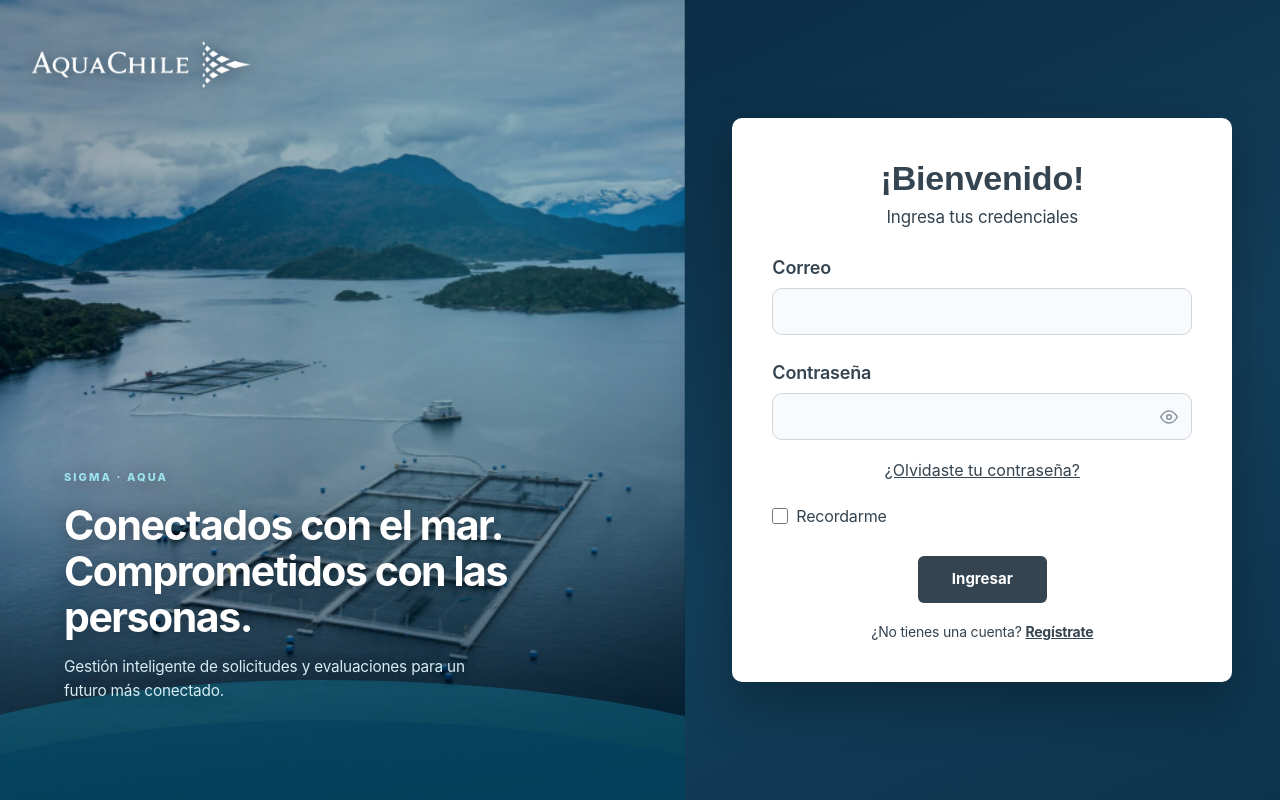
it: LoginPage › inicia sesión y navega a "/" con credenciales válidas
Type "ana@aqua.cl" into the field labelled "Correo" at (982, 312), box [772,288,1192,335]
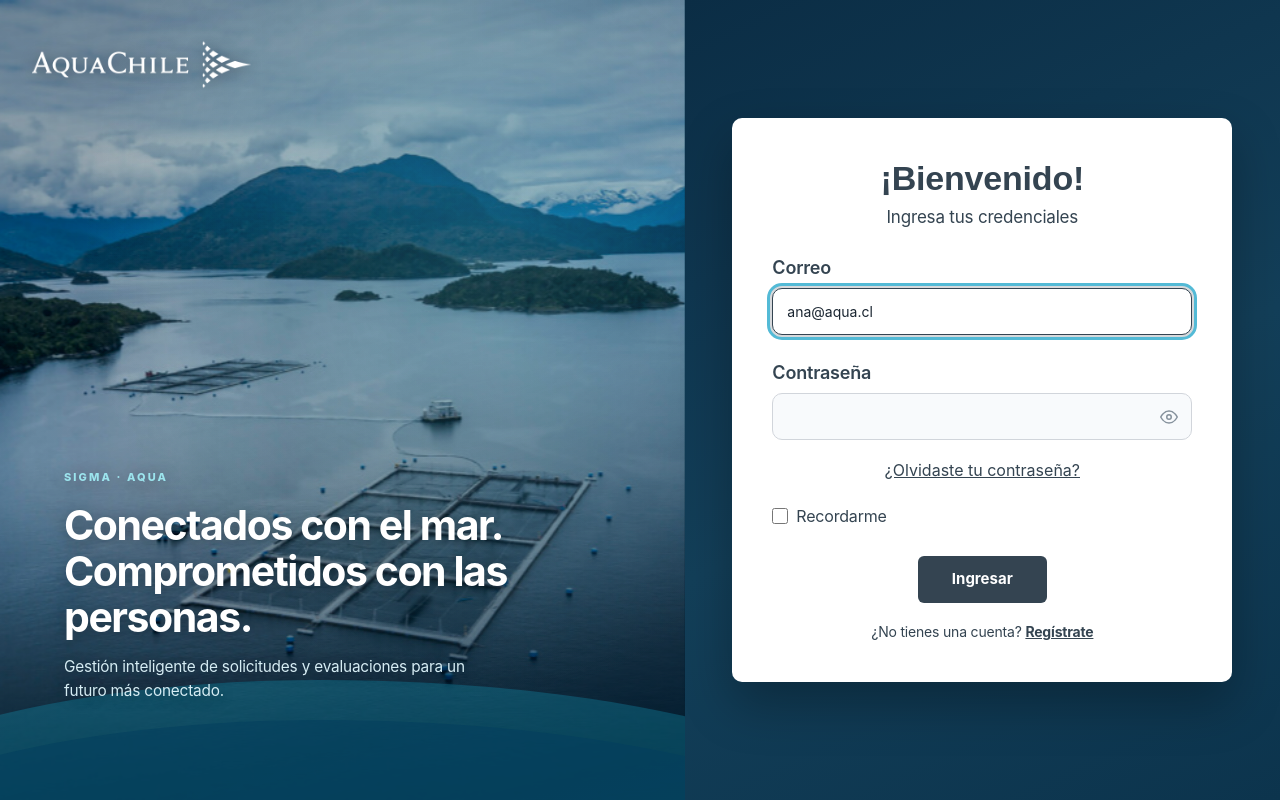
Type "secreto" into the password field labelled "Contraseña" at (982, 417), box [772,393,1192,440]
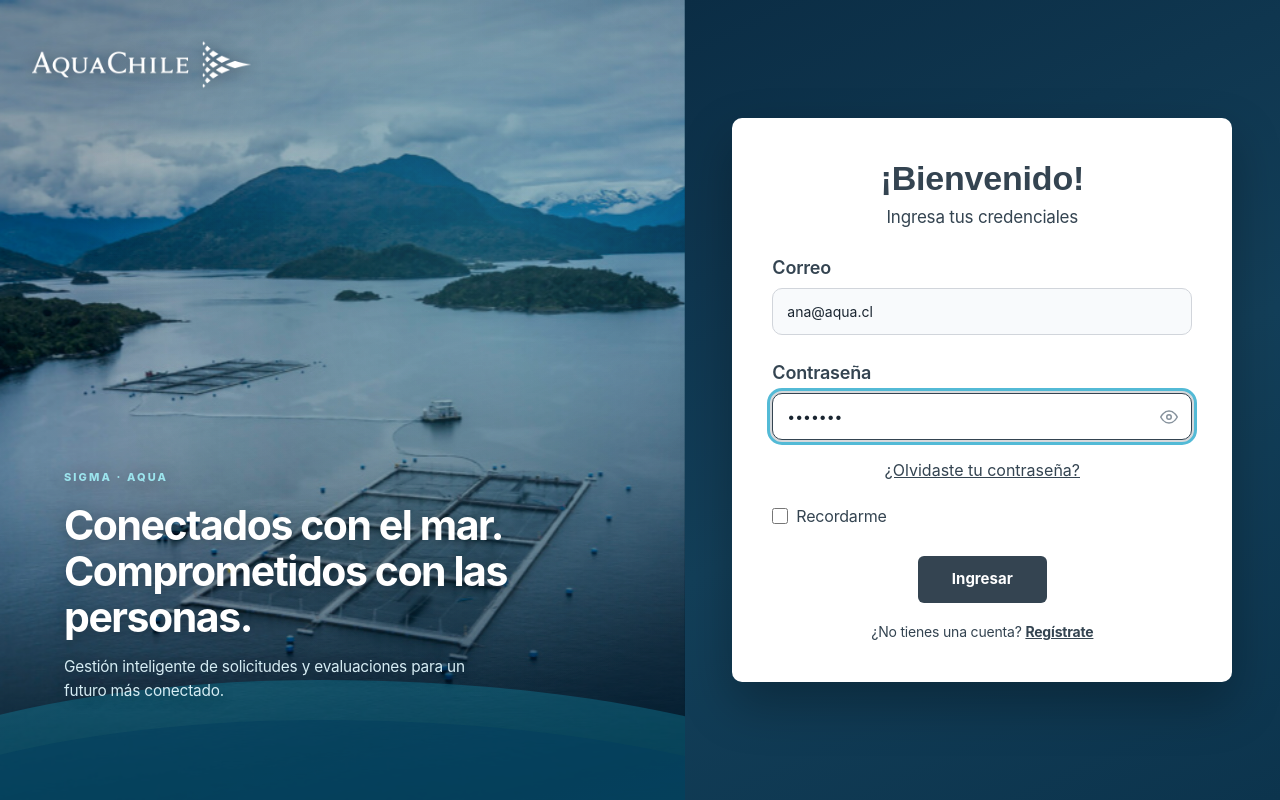
Click the button "Ingresar" at (982, 580), box [918,556,1047,603]
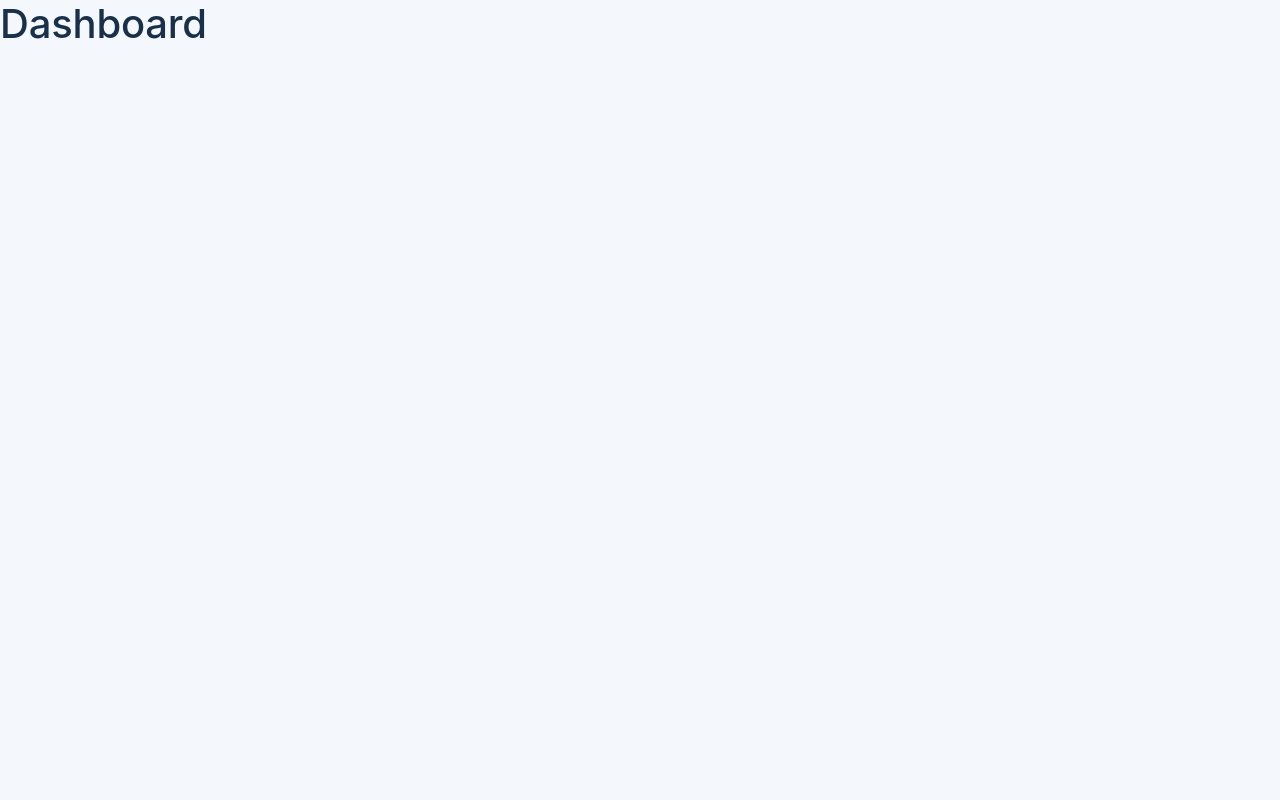
Check: the heading "Dashboard" is shown, box [0,0,207,48]
